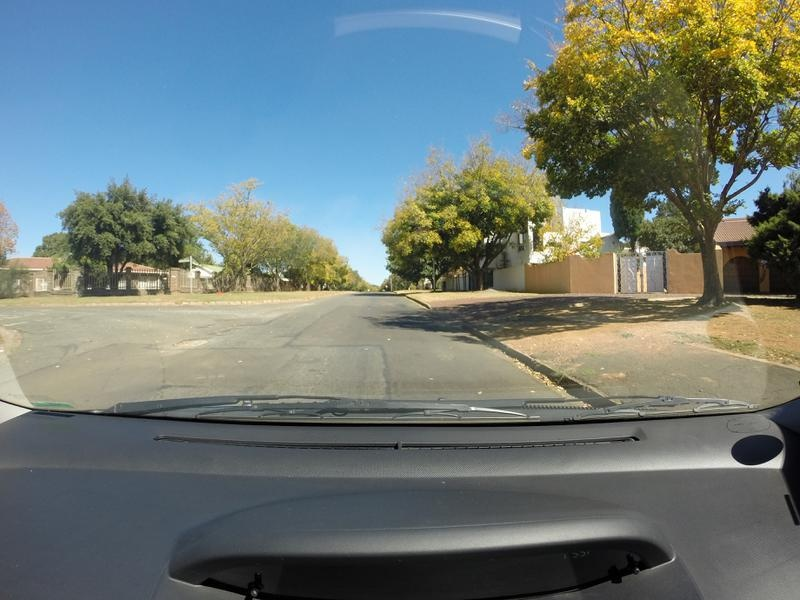pothole: (147, 332, 212, 355)
